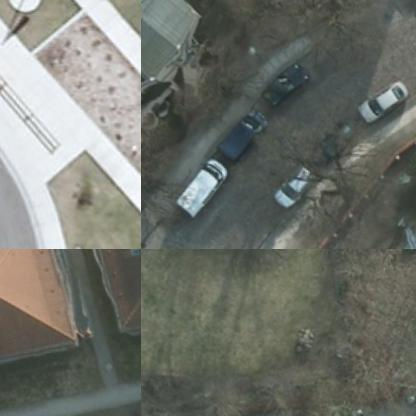car: (170, 153, 226, 215), (209, 98, 264, 160), (267, 155, 321, 205), (253, 57, 308, 104), (353, 72, 407, 116), (304, 116, 354, 160)
